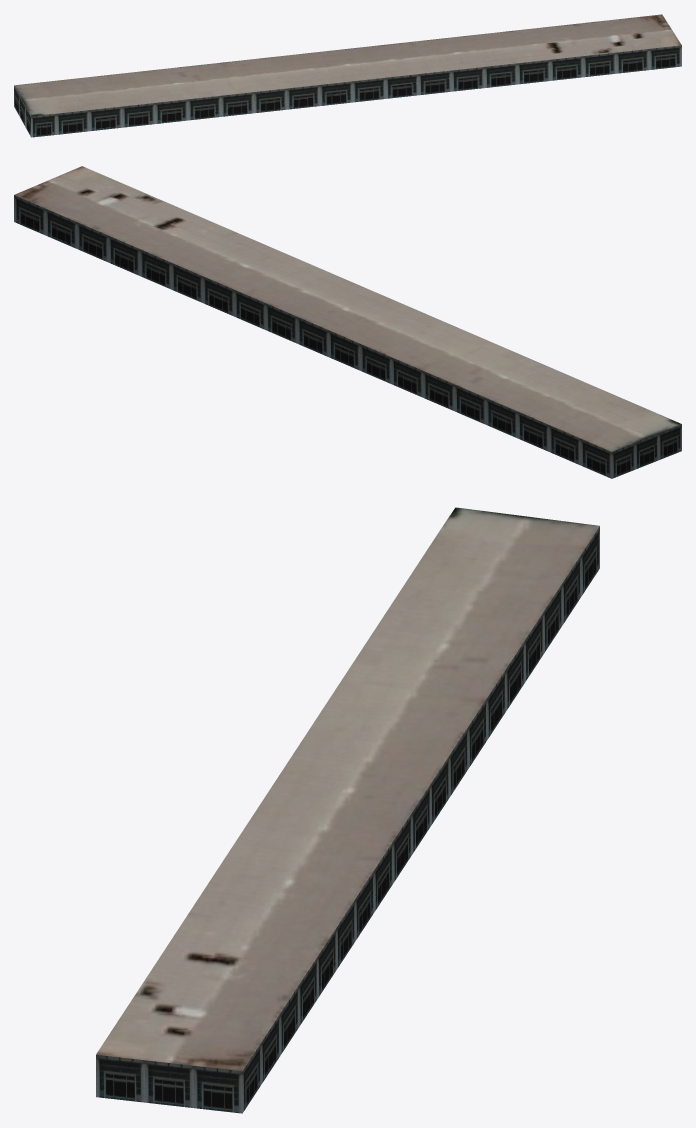
3 renders of one model, top to bottom at view 1: azimuth 30°, elevation 25°; view 2: azimuth 150°, elevation 25°; view 3: azimuth 270°, elevation 25°, orthographic. The views are drawn at different scales.
Parts seen in each view (by area): view 1: SketchUp (×4); view 2: SketchUp (×3); view 3: SketchUp (×3).
Boxes of the visible parts, bbox=[...] form: SketchUp (×4): bbox=[14, 14, 681, 137]; SketchUp (×3): bbox=[14, 166, 681, 478]; SketchUp (×3): bbox=[96, 507, 599, 1113].
Bounding box in the file's own units: 113 × 42.72 × 3.96.
2 materials, 2 textured.
